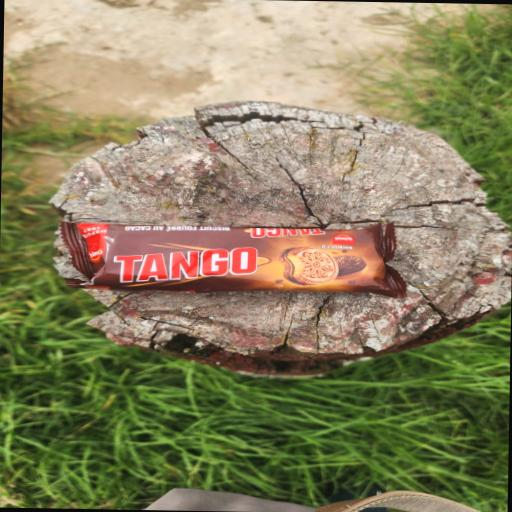tango: (22, 184, 460, 373)
